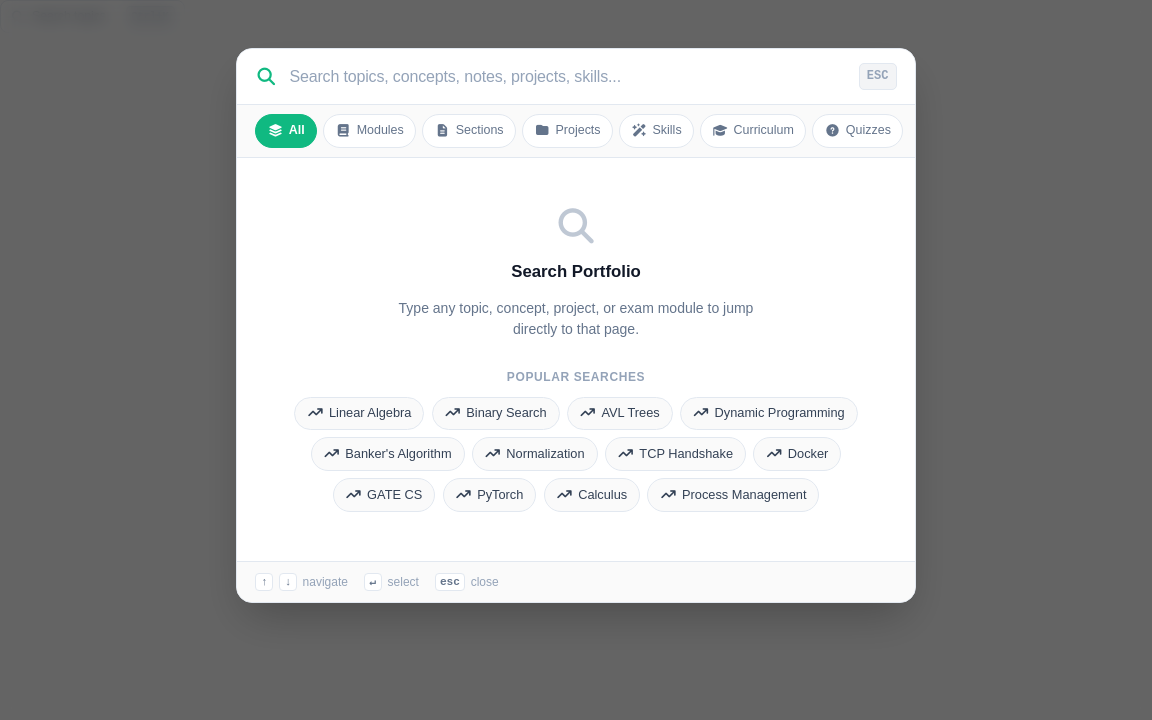
Test: Search Feature Integration › navigates to exact module page when clicking a result
Type "Linear" into the field with placeholder "Search topics, concepts, notes, projects, skills..." at (568, 76), box [289, 64, 847, 89]
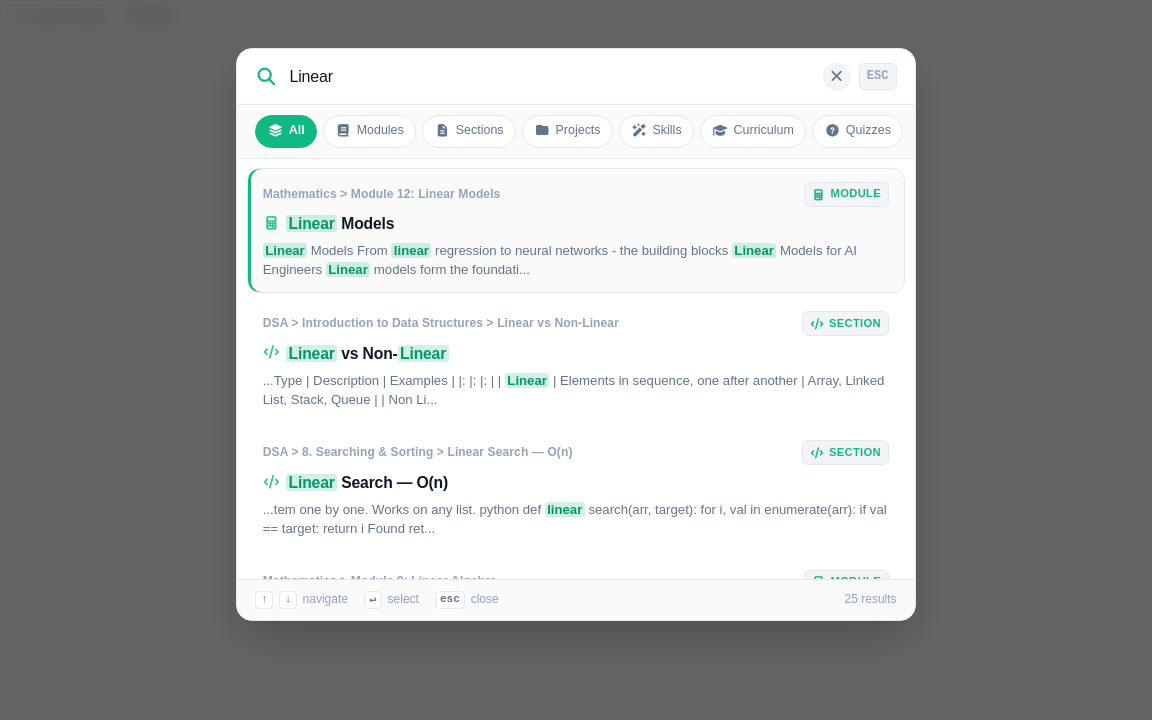
Check: the option that starts with "Mathematics > Module 12: Linear Models" is shown
Click the option that starts with "Mathematics > Module 12: Linear Models" at (382, 194), box [247, 168, 905, 293]
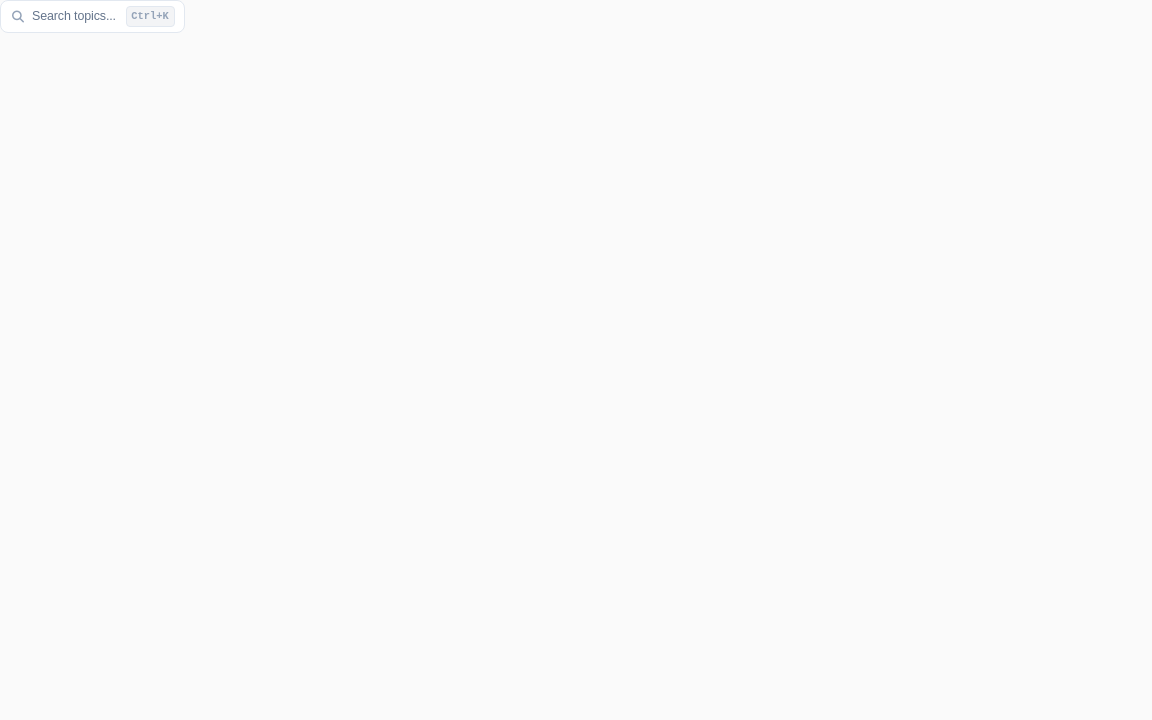
Check: the dialog is gone
